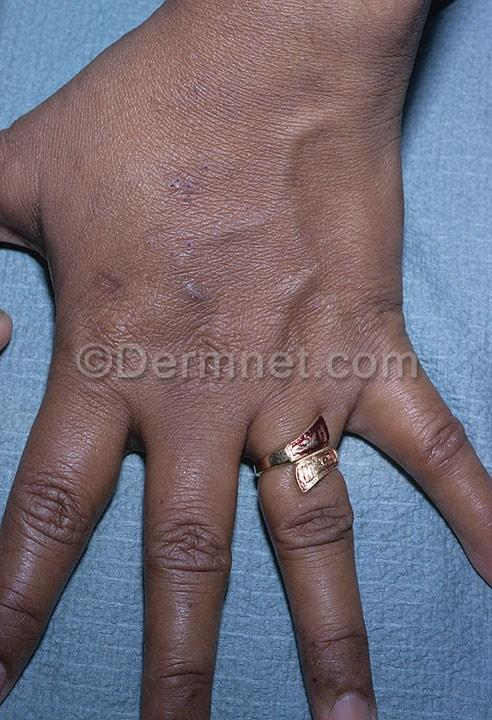Eczema: (145, 56, 236, 129), (163, 163, 230, 230), (151, 242, 214, 307), (86, 253, 141, 314), (360, 278, 406, 328)
